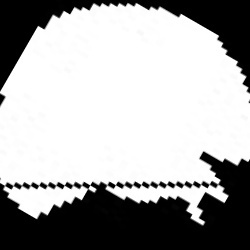spot: (1, 4, 248, 224)
